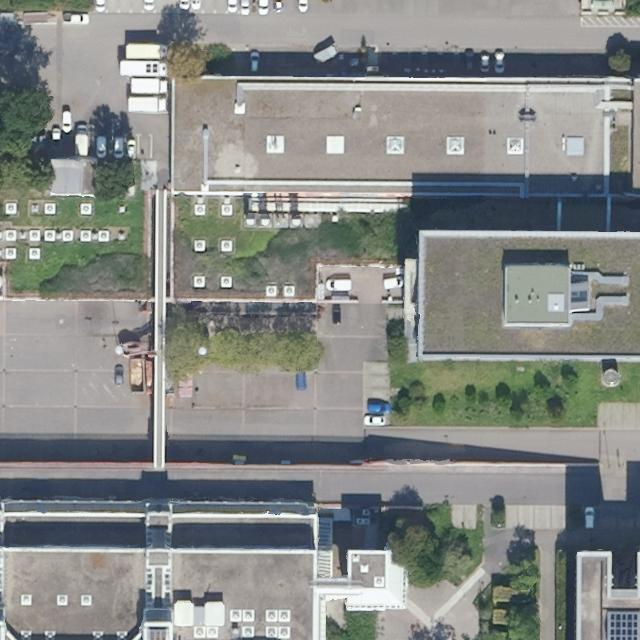PV: (606, 610, 639, 639)
